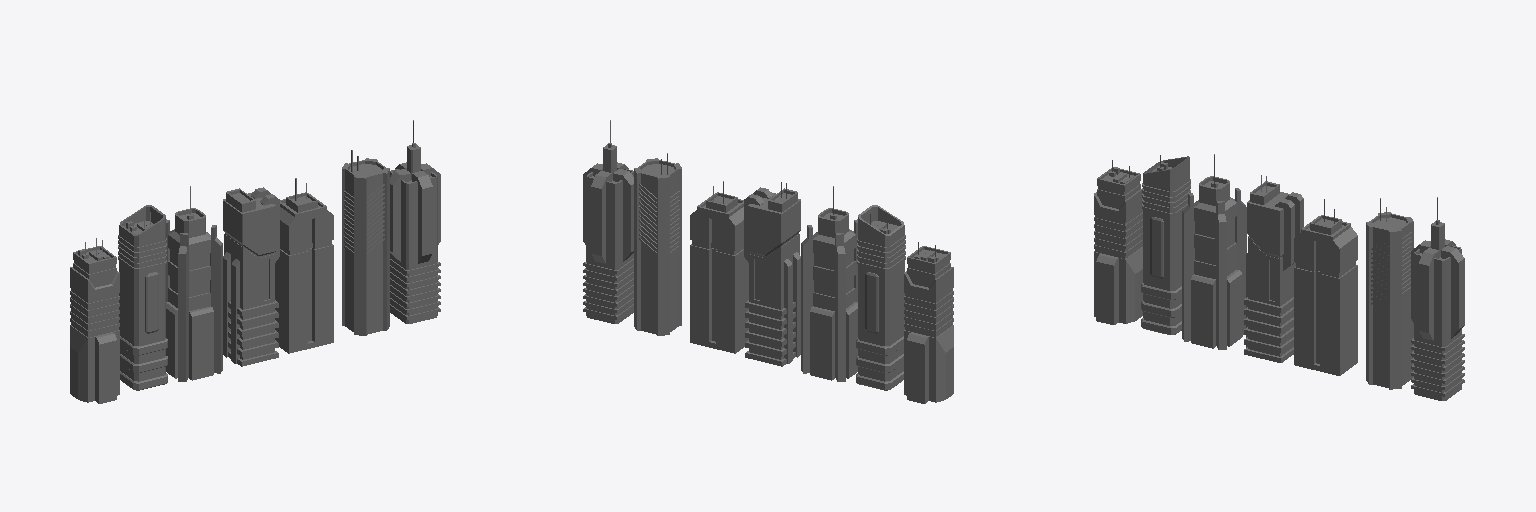
File: craper.obj
3 views of the same model, side by side, from view 1: azimuth 30°, elevation 25°; view 2: azimuth 150°, elevation 25°; view 3: azimuth 330°, elevation 25° (orthographic).
Visible parts, largest first — view 1: scifi_skyscrapers:polySurface1; view 2: scifi_skyscrapers:polySurface1; view 3: scifi_skyscrapers:polySurface1.
Part boxes in pixels (x1,y1,x2,y2): scifi_skyscrapers:polySurface1: (70,120,440,403); scifi_skyscrapers:polySurface1: (583,120,953,403); scifi_skyscrapers:polySurface1: (1094,154,1464,400).
Size of the model in its own units: 2278 by 1160 by 299.